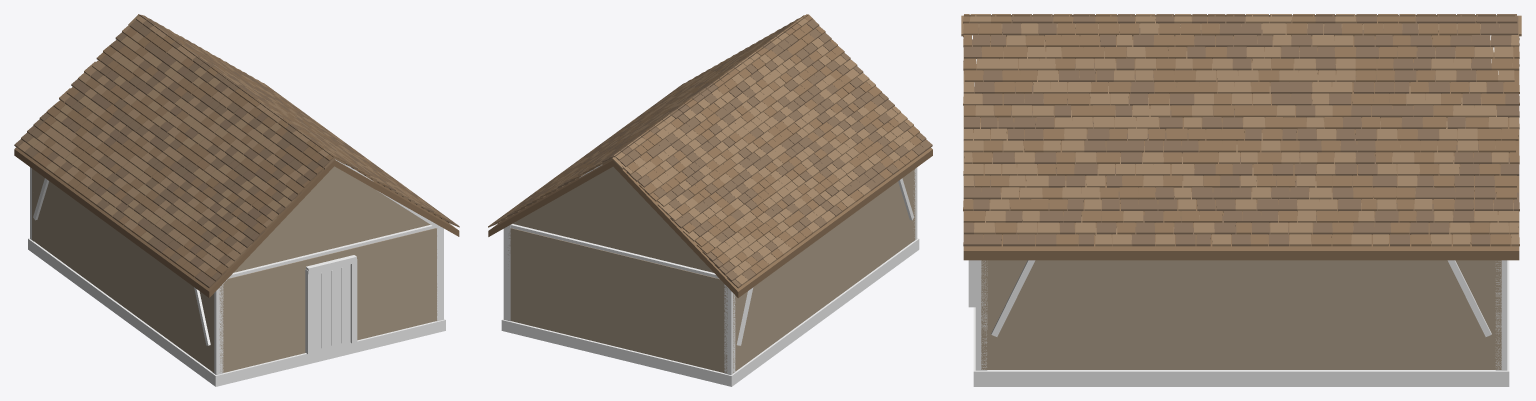
Rendered from clay_constant_A.glb.
3 views of the same model, side by side, from view 1: azimuth 30°, elevation 25°; view 2: azimuth 150°, elevation 25°; view 3: azimuth 270°, elevation 25° (orthographic). The views are drawn at different scales.
Visible parts, largest first — view 1: 09A_ShingleField.003, 08A_SideClay.006, 08A_GableClay.006, 08A_FrontClay.006, 08A_FrontClay.007, 08A_Sill.003, 09A_Deck.006, 08A_Door.003, 09A_Deck.007, 08A_EndWallPlate.006, 08A_CornerPost.012, 08A_DoorJamb.006 (+3 smaller); view 2: 09A_ShingleField.003, 08A_RearClay.003, 08A_SideClay.006, 08A_GableClay.007, 08A_Sill.003, 09A_Deck.006, 09A_Deck.007, 08A_EndWallPlate.007, 08A_CornerPost.013, 08A_CornerPost.015; view 3: 09A_ShingleField.003, 08A_SideClay.007, 09A_Deck.007, 08A_Sill.003, 08A_CornerPost.014, 08A_CornerPost.015, 08A_SideBrace.014, 08A_SideBrace.015.
Boxes of the visible parts, <box> form: 09A_ShingleField.003: <box>14,14,459,287</box>; 08A_SideClay.006: <box>32,168,214,372</box>; 08A_GableClay.006: <box>233,166,430,272</box>; 08A_FrontClay.006: <box>219,259,310,372</box>; 08A_FrontClay.007: <box>350,228,437,340</box>; 08A_Sill.003: <box>28,238,445,386</box>; 09A_Deck.006: <box>14,147,334,297</box>; 08A_Door.003: <box>313,264,350,352</box>; 09A_Deck.007: <box>334,160,459,236</box>; 08A_EndWallPlate.006: <box>228,225,435,278</box>; 08A_CornerPost.012: <box>212,284,223,374</box>; 08A_DoorJamb.006: <box>305,269,312,354</box>; 09A_ShingleField.003: <box>488,14,932,288</box>; 08A_RearClay.003: <box>508,228,727,373</box>; 08A_SideClay.006: <box>733,169,915,372</box>; 08A_GableClay.007: <box>513,166,713,272</box>; 08A_Sill.003: <box>501,238,919,386</box>; 09A_Deck.006: <box>613,148,932,297</box>; 09A_Deck.007: <box>488,159,613,236</box>; 08A_EndWallPlate.007: <box>511,224,719,278</box>; 08A_CornerPost.013: <box>724,284,735,374</box>; 08A_CornerPost.015: <box>503,223,512,321</box>; 09A_ShingleField.003: <box>963,14,1519,246</box>; 08A_SideClay.007: <box>981,260,1501,369</box>; 09A_Deck.007: <box>963,36,1519,260</box>; 08A_Sill.003: <box>973,260,1509,386</box>; 08A_CornerPost.014: <box>975,260,987,370</box>; 08A_CornerPost.015: <box>1495,260,1507,370</box>; 08A_SideBrace.014: <box>991,260,1035,336</box>; 08A_SideBrace.015: <box>1447,260,1491,336</box>.
Bounding box in the file's own units: 5.78 × 4.53 × 7.87.
